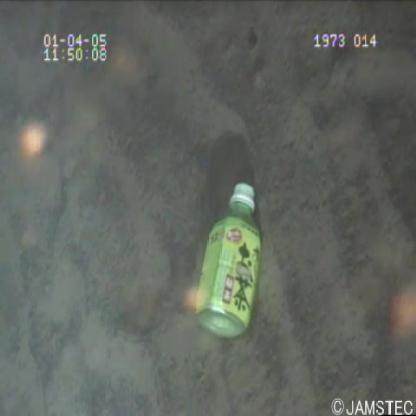Rác: (184, 172, 276, 343)
